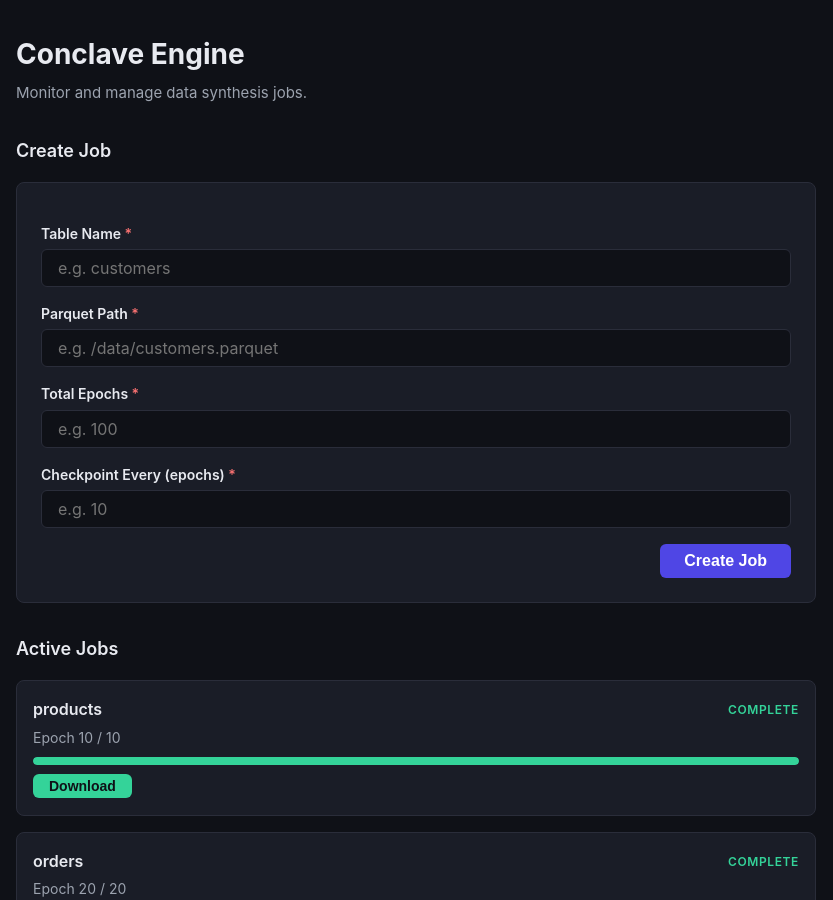
it: Dashboard — concurrent downloads (FINDING 5) › both Download buttons show Downloading… when two downloads are in-flight
This screenshot has width=833, height=900.
Step 1. Click the button with aria-label "download synthetic data for products" → (82, 786), box [33, 774, 132, 798]
(page scrolled)
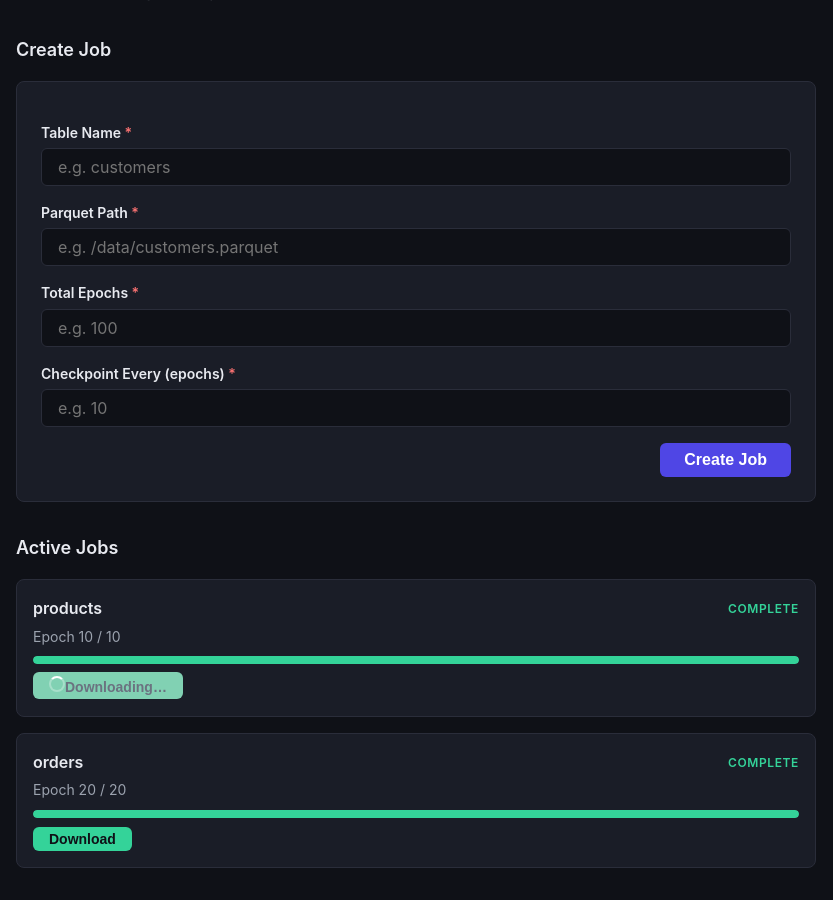
Step 2. Click the button with aria-label "download synthetic data for orders" → (82, 838), box [33, 826, 132, 850]
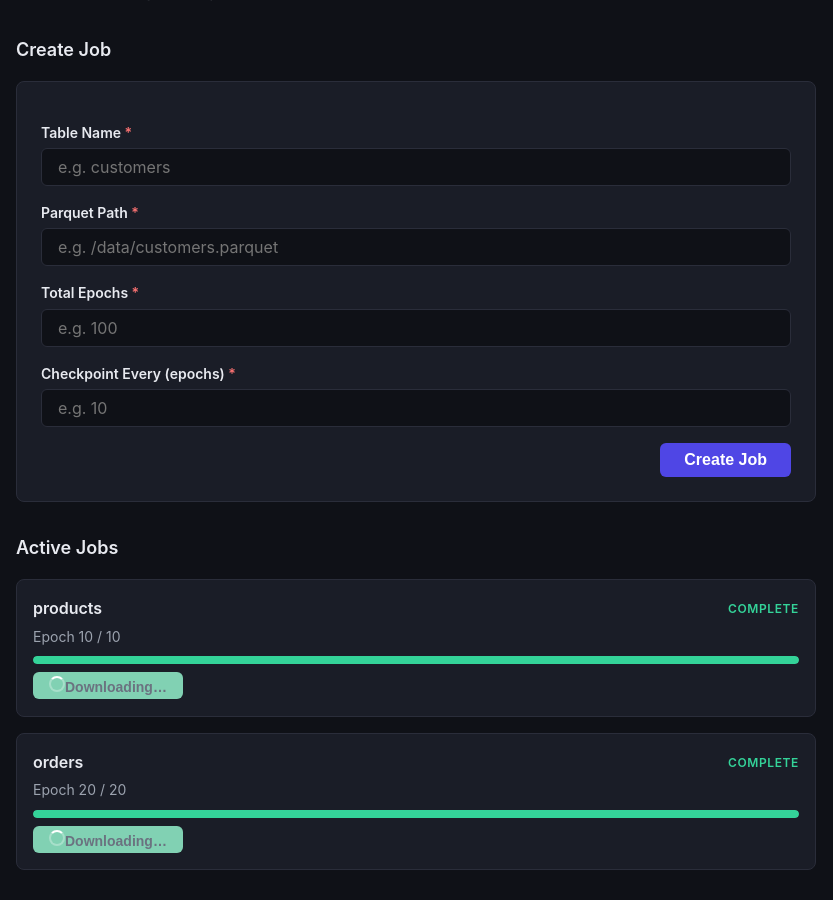
Expected: the button with aria-label "download synthetic data for products" is disabled, [33, 672, 183, 699]
Expected: the button with aria-label "download synthetic data for products" reads "Downloading…", [33, 672, 183, 699]
Expected: the button with aria-label "download synthetic data for orders" is disabled, [33, 826, 183, 852]
